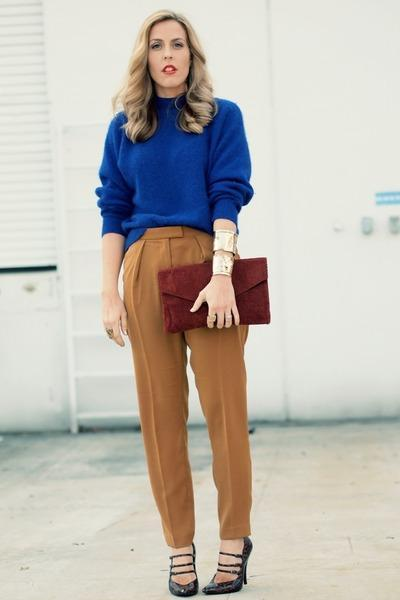bag: (158, 253, 269, 340)
jacket: (95, 99, 251, 251)
pants: (114, 226, 252, 539)
shoe: (164, 532, 246, 594)
